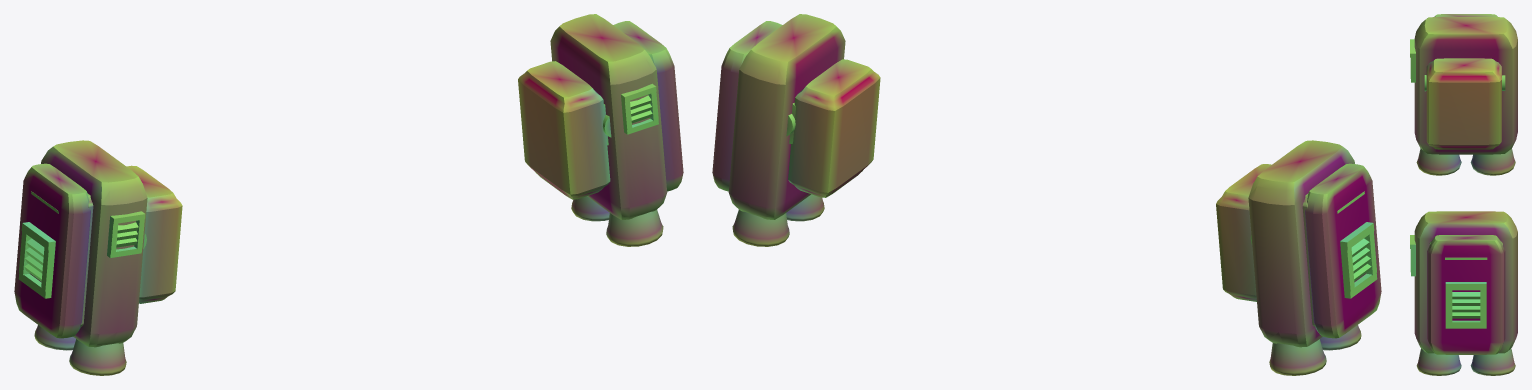
The model's file is llm_gen_leg_thrusters_004_090fbb.glb.
The picture shows the model from 3 angles, left to right: view 1: azimuth 30°, elevation 25°; view 2: azimuth 150°, elevation 25°; view 3: azimuth 270°, elevation 25°; orthographic projection. The views are drawn at different scales.
Visible parts, largest first — view 1: greave_pylon_0_wing_white_r, greave_pylon_0_wing_white_l, adapter_calf_clamp_r, lateral_binder_shroud_2_titanium_silver_l, adapter_calf_clamp_l, lateral_binder_shroud_2_titanium_silver_r, ankle_vector_bell_b_7_vernier_bell_vernier_l, adapter_sub_binder_side_vent_3_dark_l, ankle_vector_bell_b_7_vernier_bell_vernier_r, adapter_sub_greave_intake_grille_5_dark_l, adapter_sub_greave_intake_grille_5_dark_r, ankle_vector_bell_a_6_vernier_bell_vernier_r (+2 smaller); view 2: greave_pylon_0_wing_white_r, greave_pylon_0_wing_white_l, adapter_calf_clamp_r, lateral_binder_shroud_2_titanium_silver_l, adapter_calf_clamp_l, lateral_binder_shroud_2_titanium_silver_r, ankle_vector_bell_a_6_vernier_bell_vernier_l, adapter_sub_binder_side_vent_3_dark_l, ankle_vector_bell_a_6_vernier_bell_vernier_r, ankle_vector_bell_b_7_vernier_bell_vernier_r, binder_side_vent_3_gold_l, ankle_vector_bell_b_7_vernier_bell_vernier_l; view 3: lateral_binder_shroud_2_titanium_silver_r, greave_pylon_0_wing_white_l, adapter_calf_clamp_l, greave_pylon_0_wing_white_r, adapter_sub_binder_side_vent_3_dark_r, ankle_vector_bell_a_6_vernier_bell_vernier_r, ankle_vector_bell_b_7_vernier_bell_vernier_r, ankle_vector_bell_b_7_vernier_bell_vernier_l, ankle_vector_bell_a_6_vernier_bell_vernier_l, binder_side_vent_3_gold_r, adapter_sub_greave_intake_grille_5_dark_l, adapter_sub_greave_intake_grille_5_dark_r (+3 smaller).
Part boxes in pixels (x1,y1,x2,y2): greave_pylon_0_wing_white_r: (550,14,667,219); greave_pylon_0_wing_white_l: (41,140,147,347); adapter_calf_clamp_r: (518,61,610,199); lateral_binder_shroud_2_titanium_silver_l: (14,163,90,338); adapter_calf_clamp_l: (126,165,182,303); lateral_binder_shroud_2_titanium_silver_r: (613,21,683,191); ankle_vector_bell_b_7_vernier_bell_vernier_l: (69,339,126,375); adapter_sub_binder_side_vent_3_dark_l: (18,222,55,298); ankle_vector_bell_b_7_vernier_bell_vernier_r: (606,209,663,246); adapter_sub_greave_intake_grille_5_dark_l: (107,211,145,257); adapter_sub_greave_intake_grille_5_dark_r: (621,83,658,134); ankle_vector_bell_a_6_vernier_bell_vernier_r: (571,196,609,221); greave_pylon_0_wing_white_r: (728,14,845,219); greave_pylon_0_wing_white_l: (1248,140,1354,347); adapter_calf_clamp_r: (788,59,880,197); lateral_binder_shroud_2_titanium_silver_l: (1305,163,1381,338); adapter_calf_clamp_l: (1216,164,1271,301); lateral_binder_shroud_2_titanium_silver_r: (712,21,782,191); ankle_vector_bell_a_6_vernier_bell_vernier_l: (1269,339,1326,375); adapter_sub_binder_side_vent_3_dark_l: (1340,222,1377,298); ankle_vector_bell_a_6_vernier_bell_vernier_r: (732,209,789,246); ankle_vector_bell_b_7_vernier_bell_vernier_r: (786,194,824,221); binder_side_vent_3_gold_l: (1351,238,1371,281); ankle_vector_bell_b_7_vernier_bell_vernier_l: (1320,325,1361,350); lateral_binder_shroud_2_titanium_silver_r: (1427,235,1505,354); greave_pylon_0_wing_white_l: (1414,17,1517,154); adapter_calf_clamp_l: (1426,58,1501,149); greave_pylon_0_wing_white_r: (1414,211,1517,353); adapter_sub_binder_side_vent_3_dark_r: (1445,282,1486,328); ankle_vector_bell_a_6_vernier_bell_vernier_r: (1470,348,1515,375); ankle_vector_bell_b_7_vernier_bell_vernier_r: (1416,348,1461,375); ankle_vector_bell_b_7_vernier_bell_vernier_l: (1416,148,1461,175); ankle_vector_bell_a_6_vernier_bell_vernier_l: (1470,148,1515,175); binder_side_vent_3_gold_r: (1452,292,1480,318); adapter_sub_greave_intake_grille_5_dark_l: (1410,39,1415,82); adapter_sub_greave_intake_grille_5_dark_r: (1410,235,1415,276).
Bounding box in the file's own units: 82.98 × 23.9 × 15.73.
